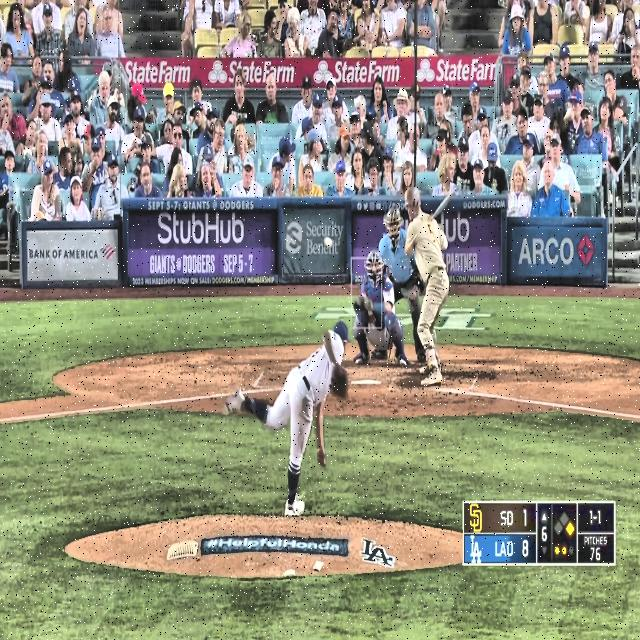baseball: (324, 237, 332, 248)
